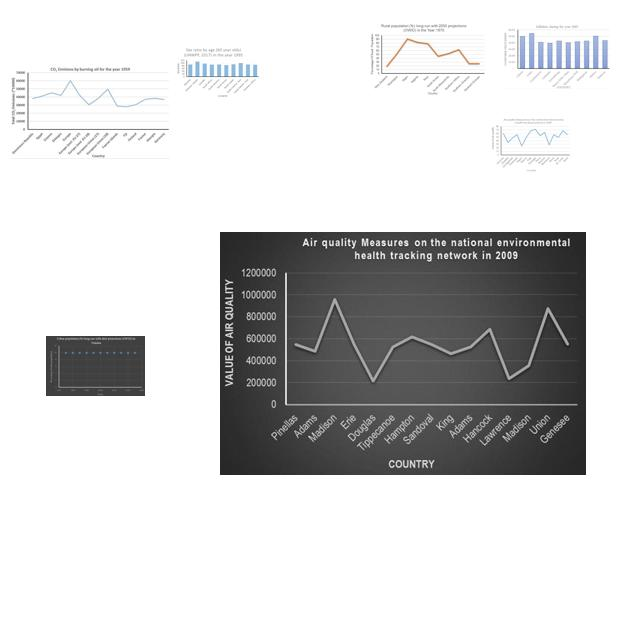Graph: (220, 232, 586, 475), (11, 66, 170, 159), (368, 22, 486, 96), (503, 24, 611, 89), (46, 336, 145, 396), (491, 117, 571, 174), (175, 46, 260, 98)
